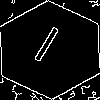I: (25, 25, 64, 72)
